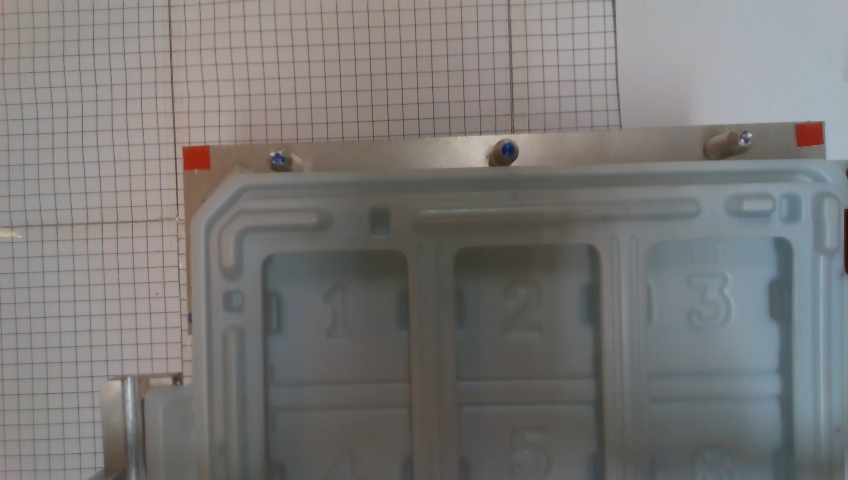red: (183, 145, 211, 170), (796, 122, 824, 147)
